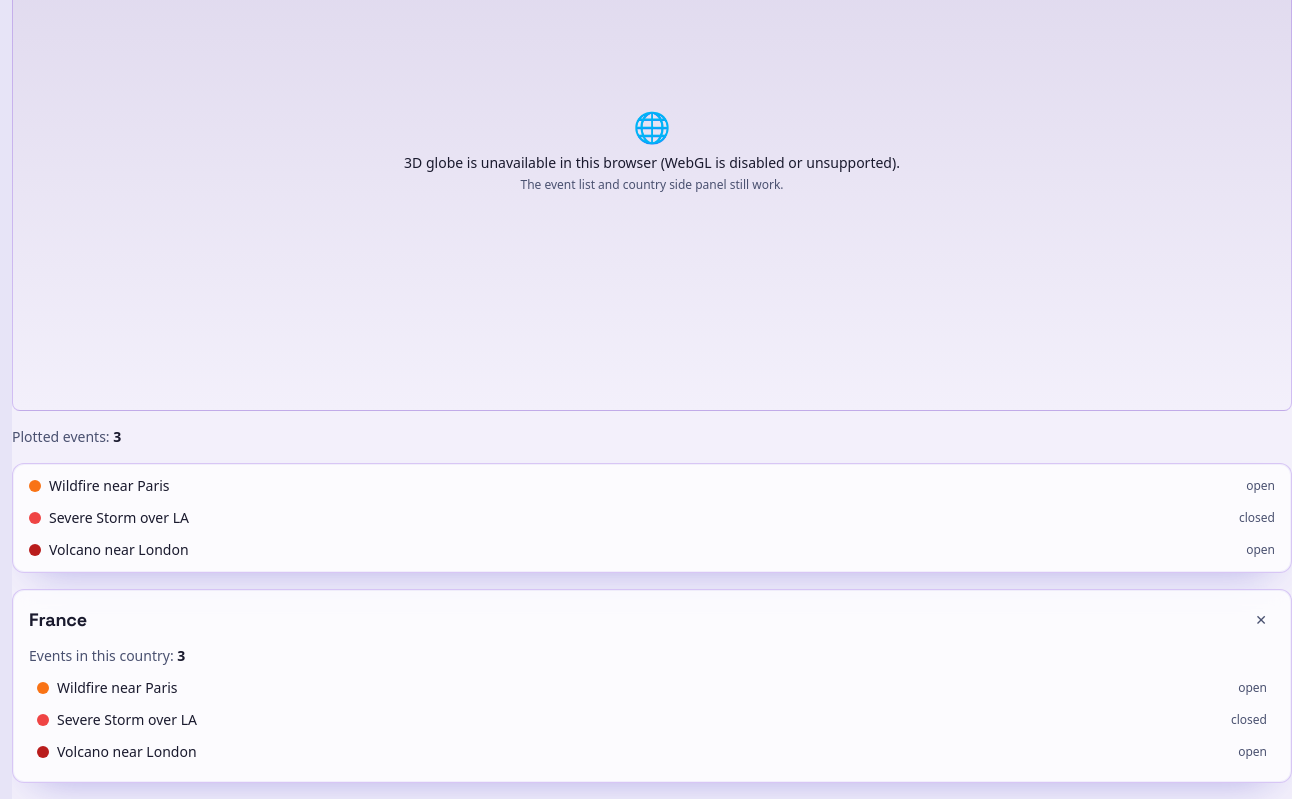
Test: M11 country selection — closing the panel › globe-side-panel-close resets selected country to "none" and clears the panel
The width and height of the screenshot is (1292, 799).
(page scrolled)
expect the element with test id "globe-side-panel" is shown: met, box [12,589,1291,783]
Step 1. Click the button with test id "globe-side-panel-close" → (1261, 620), box [1247,606,1275,634]
(page scrolled)
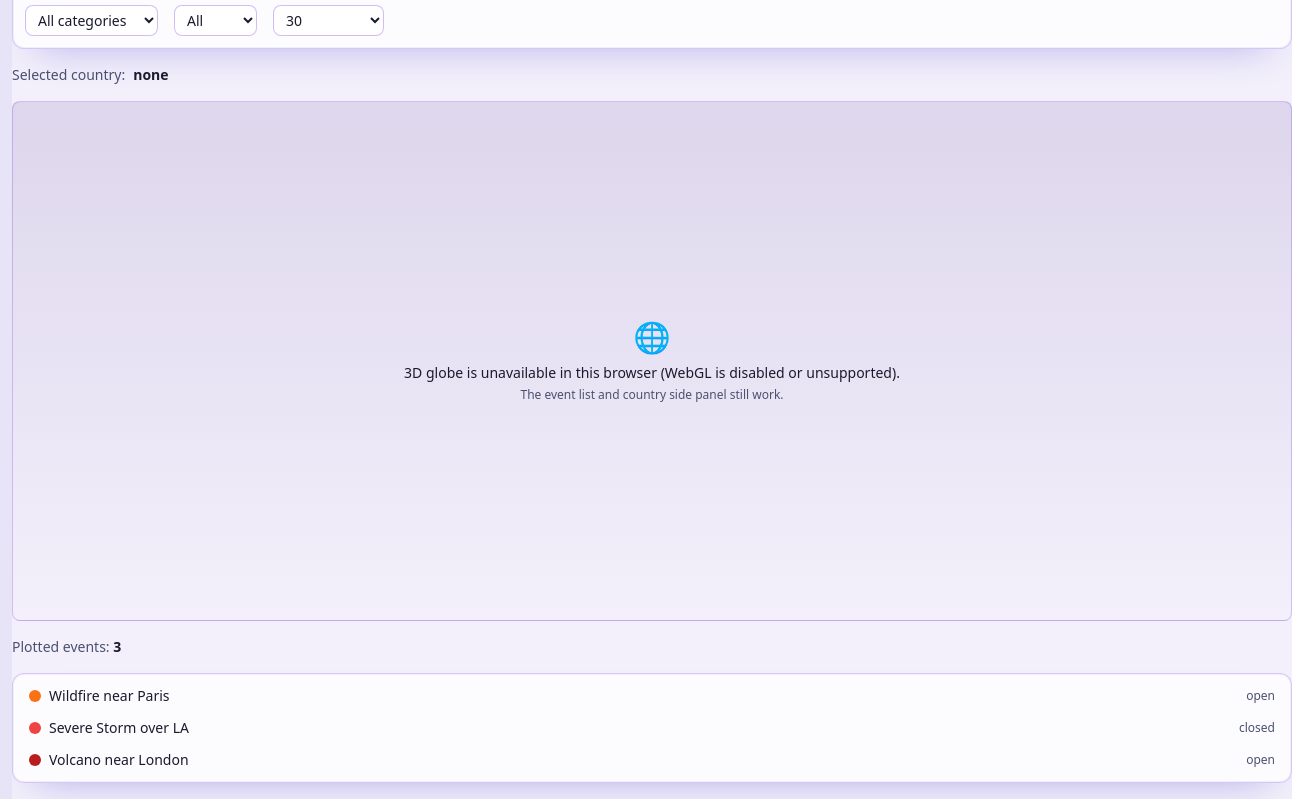
expect the element with test id "globe-side-panel" is gone: met
expect the text with test id "globe-selected-country" reads "none": met, box [133,65,168,84]
expect the list with test id "globe-country-events" is gone: met
